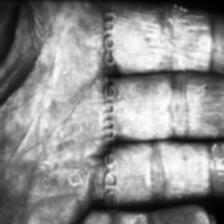Non-Cancerous Skin Condition: (121, 3, 224, 203), (0, 9, 96, 195), (0, 206, 204, 224)
